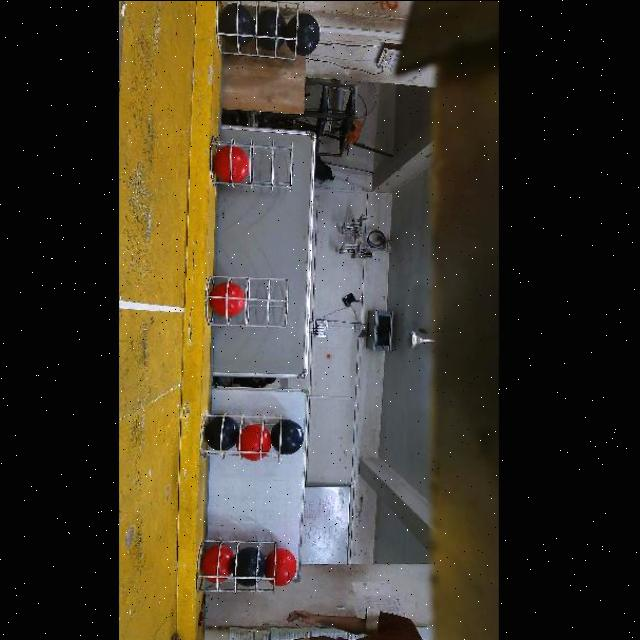P: (219, 1, 256, 45), (285, 12, 320, 55), (257, 8, 290, 50), (236, 548, 267, 589), (205, 417, 240, 451), (271, 420, 304, 455)
R: (200, 544, 236, 583), (213, 145, 249, 182), (266, 548, 298, 586), (241, 423, 273, 460), (211, 282, 244, 317)
S: (205, 0, 298, 60), (210, 134, 294, 188), (204, 274, 292, 324), (198, 540, 278, 594), (201, 412, 287, 462)
